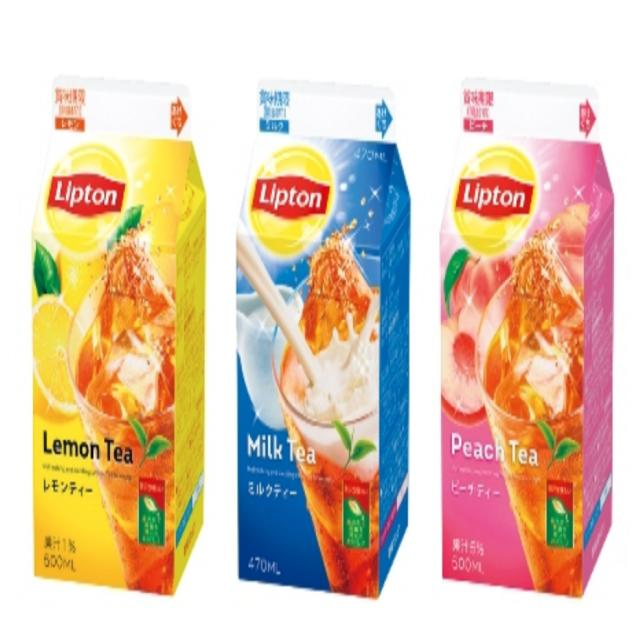non_white_jug: (23, 50, 210, 620), (428, 60, 620, 612), (222, 64, 412, 614)
